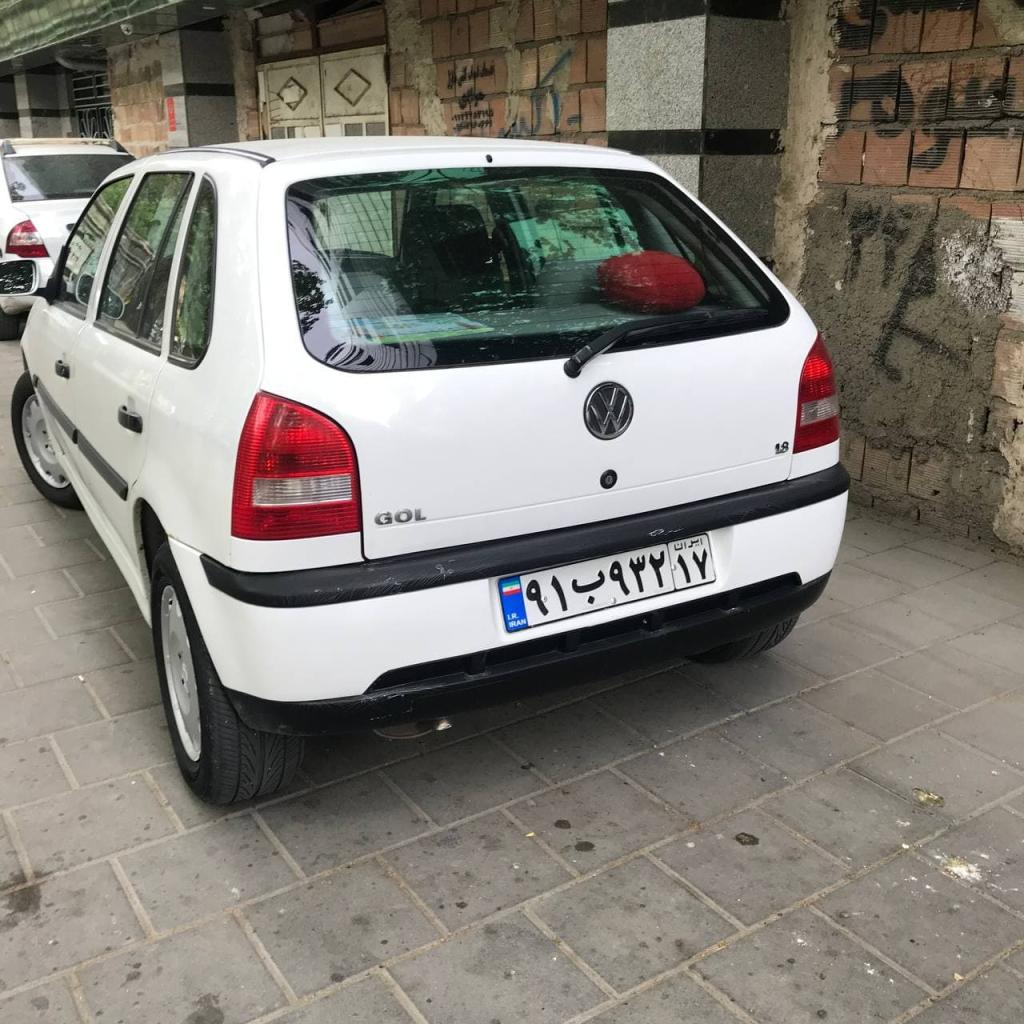Plates: (499, 533, 716, 632)
